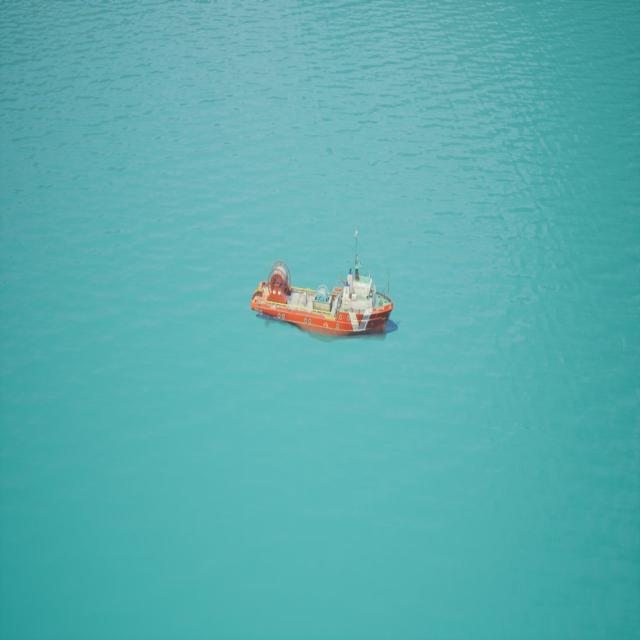tug boat: (238, 189, 425, 416)
